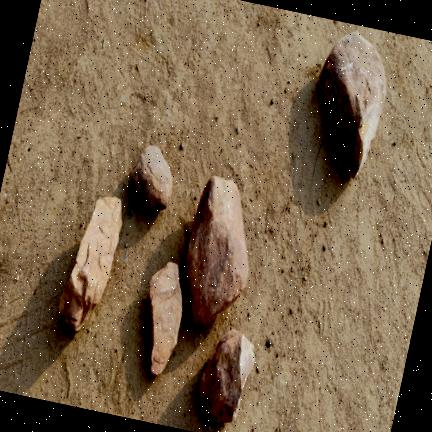Rocks: (319, 32, 386, 178), (187, 177, 248, 327), (59, 197, 122, 331), (199, 330, 255, 424), (150, 263, 182, 376), (131, 146, 172, 210), (236, 127, 240, 135)
